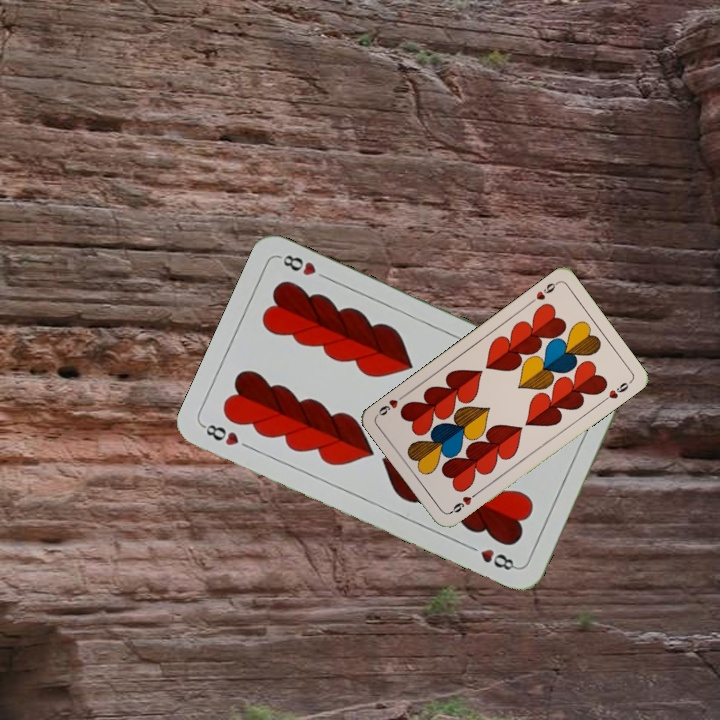H8: (199, 420, 255, 452)
H9: (525, 278, 561, 306), (446, 488, 481, 516)
